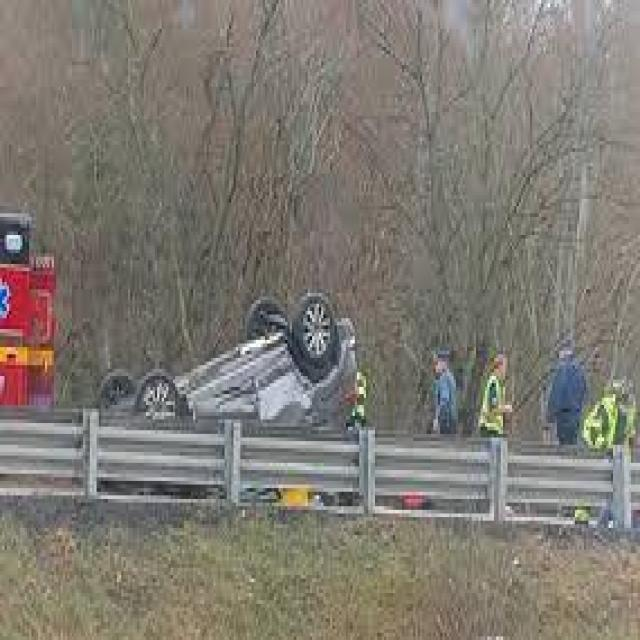severe: (90, 289, 357, 459)
